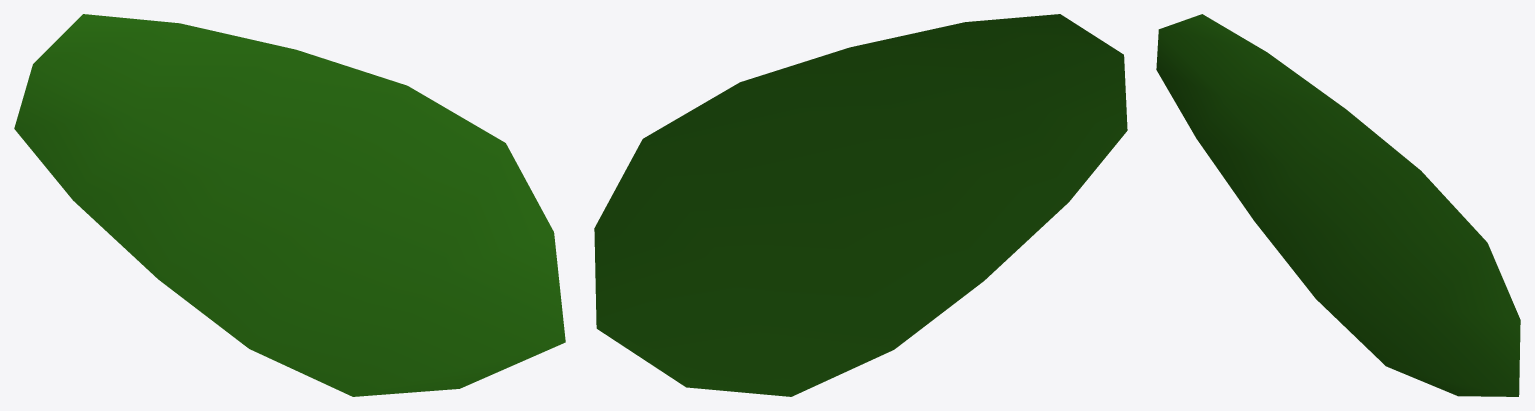
File: lovebird_feather_flight_tertiary_028.001.obj
The picture shows the model from 3 angles, left to right: view 1: azimuth 30°, elevation 25°; view 2: azimuth 150°, elevation 25°; view 3: azimuth 330°, elevation 25°; orthographic projection. The views are drawn at different scales.
Visible parts, largest first — view 1: feather_flight_tertiary_028.001; view 2: feather_flight_tertiary_028.001; view 3: feather_flight_tertiary_028.001.
Boxes of the visible parts, <box> form: feather_flight_tertiary_028.001: <box>14,14,565,396</box>; feather_flight_tertiary_028.001: <box>594,14,1127,396</box>; feather_flight_tertiary_028.001: <box>1156,14,1520,396</box>.
Bounding box in the file's own units: 0.00691 × 0.00568 × 0.000246.
